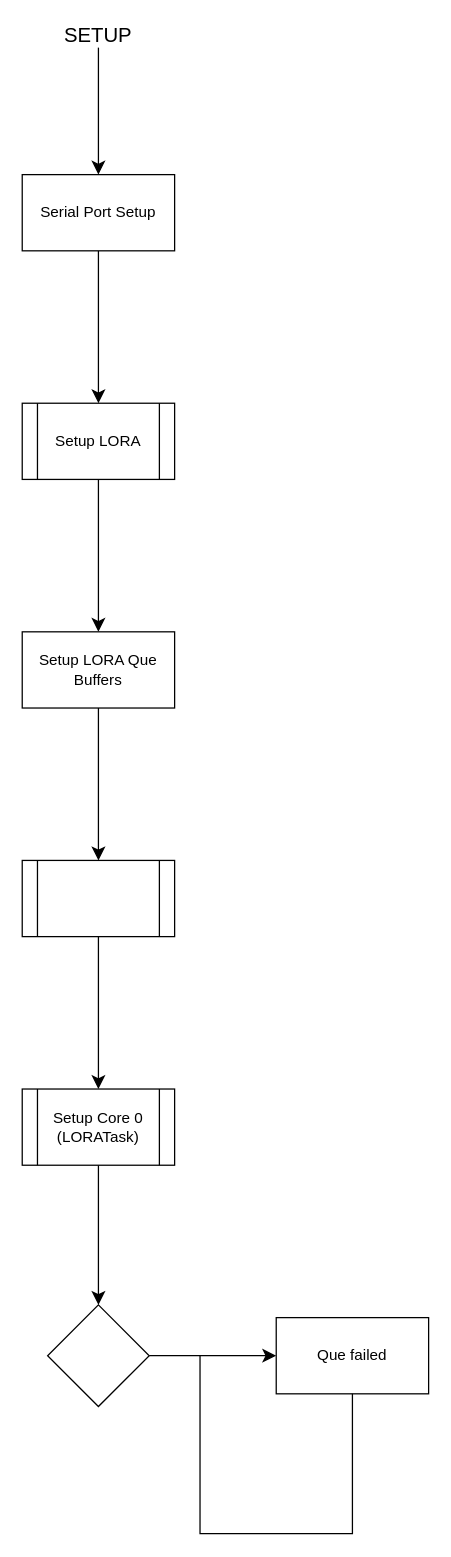
Image size: 451x1557. Some labels were removed from this diagram. The shapes that lost their labels are listed below. From the top down, each one's centre as x and y in pixels, then its label:
At point (98, 898): "SetupCore 1 (ProcessTask)".
At point (97, 1355): "LORAQue setup correctly?".
